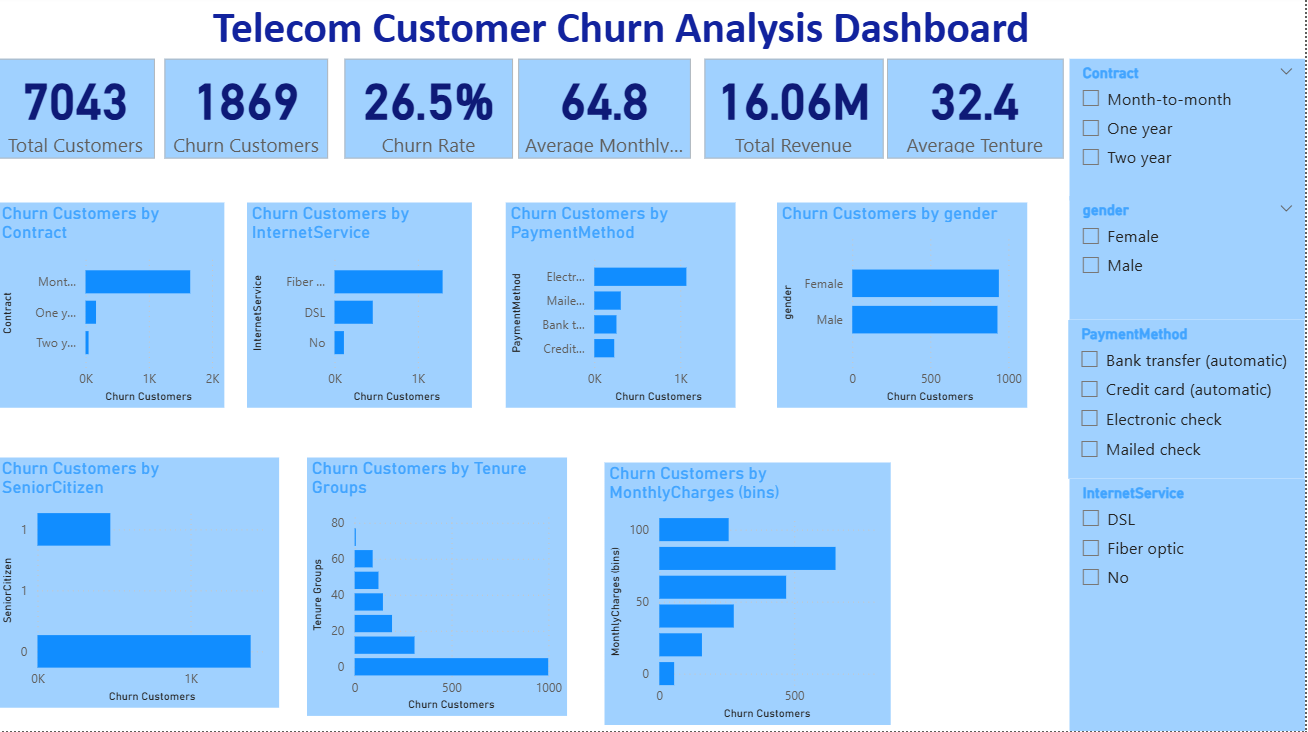

What the dashboard file says about the page in this screenshot:
{"tool":"powerbi","page":{"name":"Page 1","canvas":[1280,720],"ordinal":0},"visuals":[{"type":"textbox","box":[0,0,1221.2,62.5],"z":0},{"type":"card","fields":{"Values":["WA_Fn-UseC_-Telco-Customer-Churn.Total Customers"]},"box":[0,62.4,154.1,97.8],"z":1000},{"type":"card","fields":{"Values":["WA_Fn-UseC_-Telco-Customer-Churn.Churn Customers"]},"box":[163.9,62.4,160.2,97.8],"z":1001},{"type":"card","fields":{"Values":["WA_Fn-UseC_-Telco-Customer-Churn.Churn Rate"]},"box":[339.9,62.4,165.1,97.8],"z":1002},{"type":"card","fields":{"Values":["WA_Fn-UseC_-Telco-Customer-Churn.Average Monthly Charges"]},"box":[509.9,62.4,168.8,97.8],"z":1003},{"type":"card","fields":{"Values":["WA_Fn-UseC_-Telco-Customer-Churn.Total Revenue"]},"box":[692.1,62.4,174.9,97.8],"z":1004},{"type":"card","fields":{"Values":["WA_Fn-UseC_-Telco-Customer-Churn.Average Tenture"]},"box":[870.7,62.4,172.4,97.8],"z":1005},{"type":"clusteredBarChart","fields":{"Y":["WA_Fn-UseC_-Telco-Customer-Churn.Churn Customers"],"Category":["WA_Fn-UseC_-Telco-Customer-Churn.SeniorCitizen"]},"box":[0,452.4,276.4,244.6],"z":1006},{"type":"clusteredBarChart","fields":{"Category":["WA_Fn-UseC_-Telco-Customer-Churn.Contract"],"Y":["WA_Fn-UseC_-Telco-Customer-Churn.Churn Customers"]},"box":[0,203,222.6,200.5],"z":1007},{"type":"clusteredBarChart","fields":{"Category":["WA_Fn-UseC_-Telco-Customer-Churn.InternetService"],"Y":["WA_Fn-UseC_-Telco-Customer-Churn.Churn Customers"]},"box":[244.6,203,220.1,200.5],"z":1008},{"type":"clusteredBarChart","fields":{"Category":["WA_Fn-UseC_-Telco-Customer-Churn.PaymentMethod"],"Y":["WA_Fn-UseC_-Telco-Customer-Churn.Churn Customers"]},"box":[497.7,203,225,200.5],"z":1009},{"type":"clusteredBarChart","fields":{"Category":["WA_Fn-UseC_-Telco-Customer-Churn.gender"],"Y":["WA_Fn-UseC_-Telco-Customer-Churn.Churn Customers"]},"box":[763,203,244.6,200.5],"z":1010},{"type":"clusteredBarChart","fields":{"Y":["WA_Fn-UseC_-Telco-Customer-Churn.Churn Customers"],"Category":["WA_Fn-UseC_-Telco-Customer-Churn.Tenure Groups"]},"box":[303.3,452.4,254.3,253.1],"z":1011},{"type":"clusteredBarChart","fields":{"Y":["WA_Fn-UseC_-Telco-Customer-Churn.Churn Customers"],"Category":["WA_Fn-UseC_-Telco-Customer-Churn.MonthlyCharges (bins)"]},"box":[594.3,457.3,280,256.8],"z":1012},{"type":"slicer","fields":{"Values":["WA_Fn-UseC_-Telco-Customer-Churn.Contract"]},"box":[1049.2,62.4,231.1,138.2],"z":1013},{"type":"slicer","fields":{"Values":["WA_Fn-UseC_-Telco-Customer-Churn.InternetService"]},"box":[1049.2,473.2,231.1,247],"z":1014},{"type":"slicer","fields":{"Values":["WA_Fn-UseC_-Telco-Customer-Churn.gender"]},"box":[1049.2,196.9,231.1,121.1],"z":1015},{"type":"slicer","fields":{"Values":["WA_Fn-UseC_-Telco-Customer-Churn.PaymentMethod"]},"box":[1048,317.9,231.1,155.3],"z":1016}]}

Visuals, with their boxes in screenshot pixels (x1, y1, x2, y2), scaled from the page's 1280x720 canvas onto the 1308x732 screenshot:
textbox: <bbox>0, 0, 1248, 64</bbox>
card - WA_Fn-UseC_-Telco-Customer-Churn.Total Customers: <bbox>0, 63, 157, 163</bbox>
card - WA_Fn-UseC_-Telco-Customer-Churn.Churn Customers: <bbox>167, 63, 331, 163</bbox>
card - WA_Fn-UseC_-Telco-Customer-Churn.Churn Rate: <bbox>347, 63, 516, 163</bbox>
card - WA_Fn-UseC_-Telco-Customer-Churn.Average Monthly Charges: <bbox>521, 63, 694, 163</bbox>
card - WA_Fn-UseC_-Telco-Customer-Churn.Total Revenue: <bbox>707, 63, 886, 163</bbox>
card - WA_Fn-UseC_-Telco-Customer-Churn.Average Tenture: <bbox>890, 63, 1066, 163</bbox>
clusteredBarChart - WA_Fn-UseC_-Telco-Customer-Churn.Churn Customers x WA_Fn-UseC_-Telco-Customer-Churn.SeniorCitizen: <bbox>0, 460, 282, 709</bbox>
clusteredBarChart - WA_Fn-UseC_-Telco-Customer-Churn.Contract x WA_Fn-UseC_-Telco-Customer-Churn.Churn Customers: <bbox>0, 206, 227, 410</bbox>
clusteredBarChart - WA_Fn-UseC_-Telco-Customer-Churn.InternetService x WA_Fn-UseC_-Telco-Customer-Churn.Churn Customers: <bbox>250, 206, 475, 410</bbox>
clusteredBarChart - WA_Fn-UseC_-Telco-Customer-Churn.PaymentMethod x WA_Fn-UseC_-Telco-Customer-Churn.Churn Customers: <bbox>509, 206, 739, 410</bbox>
clusteredBarChart - WA_Fn-UseC_-Telco-Customer-Churn.gender x WA_Fn-UseC_-Telco-Customer-Churn.Churn Customers: <bbox>780, 206, 1030, 410</bbox>
clusteredBarChart - WA_Fn-UseC_-Telco-Customer-Churn.Churn Customers x WA_Fn-UseC_-Telco-Customer-Churn.Tenure Groups: <bbox>310, 460, 570, 717</bbox>
clusteredBarChart - WA_Fn-UseC_-Telco-Customer-Churn.Churn Customers x WA_Fn-UseC_-Telco-Customer-Churn.MonthlyCharges (bins): <bbox>607, 465, 893, 726</bbox>
slicer - WA_Fn-UseC_-Telco-Customer-Churn.Contract: <bbox>1072, 63, 1307, 204</bbox>
slicer - WA_Fn-UseC_-Telco-Customer-Churn.InternetService: <bbox>1072, 481, 1307, 731</bbox>
slicer - WA_Fn-UseC_-Telco-Customer-Churn.gender: <bbox>1072, 200, 1307, 323</bbox>
slicer - WA_Fn-UseC_-Telco-Customer-Churn.PaymentMethod: <bbox>1071, 323, 1307, 481</bbox>
